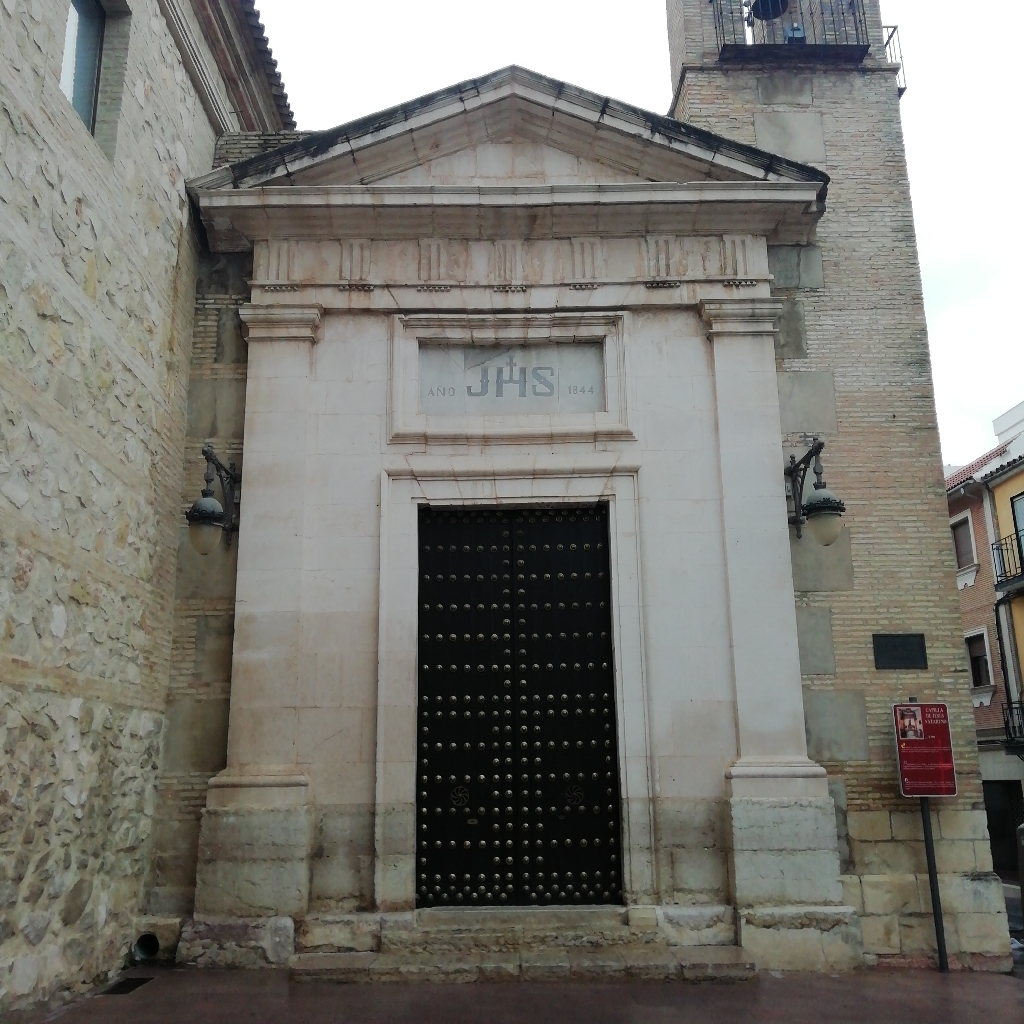fronton: (370, 463, 663, 912), (177, 60, 838, 218)
